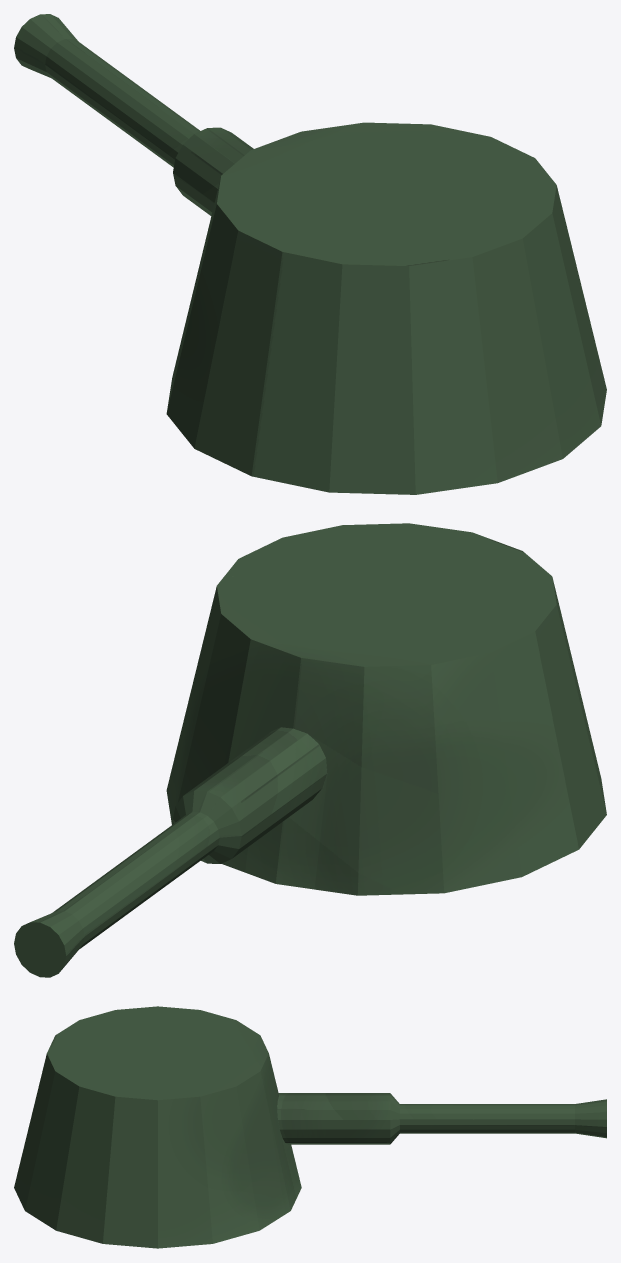
The model's file is brdmkpvtturrret.fbx.
3 views of the same model, one above another, from view 1: azimuth 30°, elevation 25°; view 2: azimuth 150°, elevation 25°; view 3: azimuth 270°, elevation 25° (orthographic). The views are drawn at different scales.
Visible parts, largest first — view 1: Cylinder; view 2: Cylinder; view 3: Cylinder.
Boxes of the visible parts, box(x1,y1,x2,y2) form: Cylinder: box(14, 14, 606, 494); Cylinder: box(14, 523, 606, 977); Cylinder: box(14, 1006, 606, 1248).
Size of the model in its own units: 346 by 178 by 713.
1 material, 1 textured.
